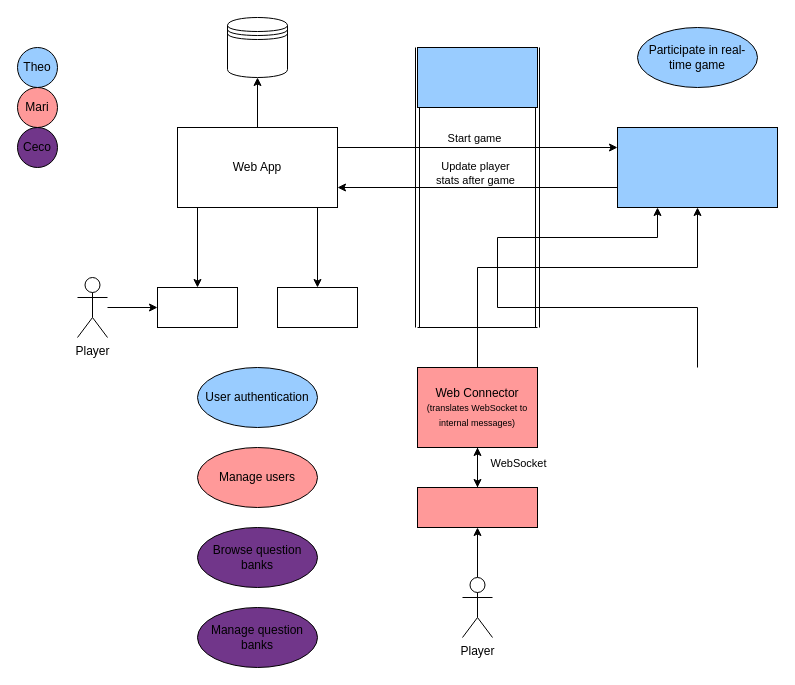
Image size: 795x685. Some labels were removed from this diagram. Here are the shapes that lost their labels. From the top down, the box of each, then its label:
(226, 16, 288, 78): MySQL
(416, 46, 538, 108): Message Broker (Redis, SQS, Service Bus, etc.)
(616, 126, 778, 208): Game App
(156, 286, 238, 328): Frontend
(276, 286, 358, 328): Backend
(416, 486, 538, 528): Game Web Frontend
